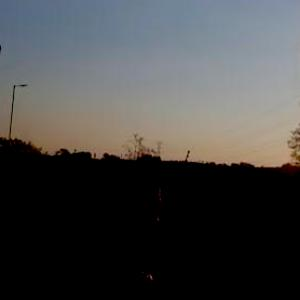follow: (108, 154, 193, 299)
